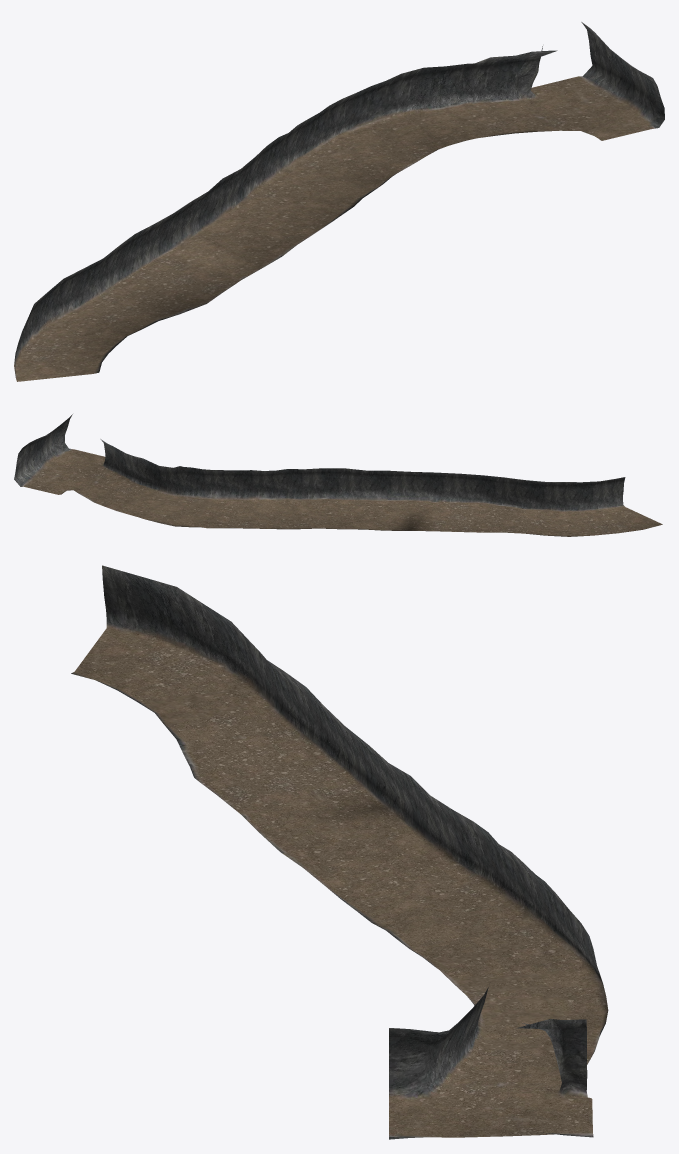
File: TunnelD.glb
3 views of the same model, one above another, from view 1: azimuth 30°, elevation 25°; view 2: azimuth 150°, elevation 25°; view 3: azimuth 270°, elevation 25° (orthographic). The views are drawn at different scales.
Parts seen in each view (by area): view 1: TunnelD; view 2: TunnelD; view 3: TunnelD.
Boxes of the visible parts, x1,y1,x2,y2 form: TunnelD: (14,22,664,381); TunnelD: (14,414,662,536); TunnelD: (71,565,608,1139).
Size of the model in its own units: 33.49 by 2.92 by 14.71.
Materials: 1 (1 with a texture image).
